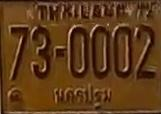0: (90, 25, 110, 78), (112, 26, 132, 77), (69, 26, 88, 77)
2: (135, 24, 157, 79)
3: (31, 25, 50, 78)
7: (10, 26, 28, 78)
NPT: (50, 82, 114, 108)
